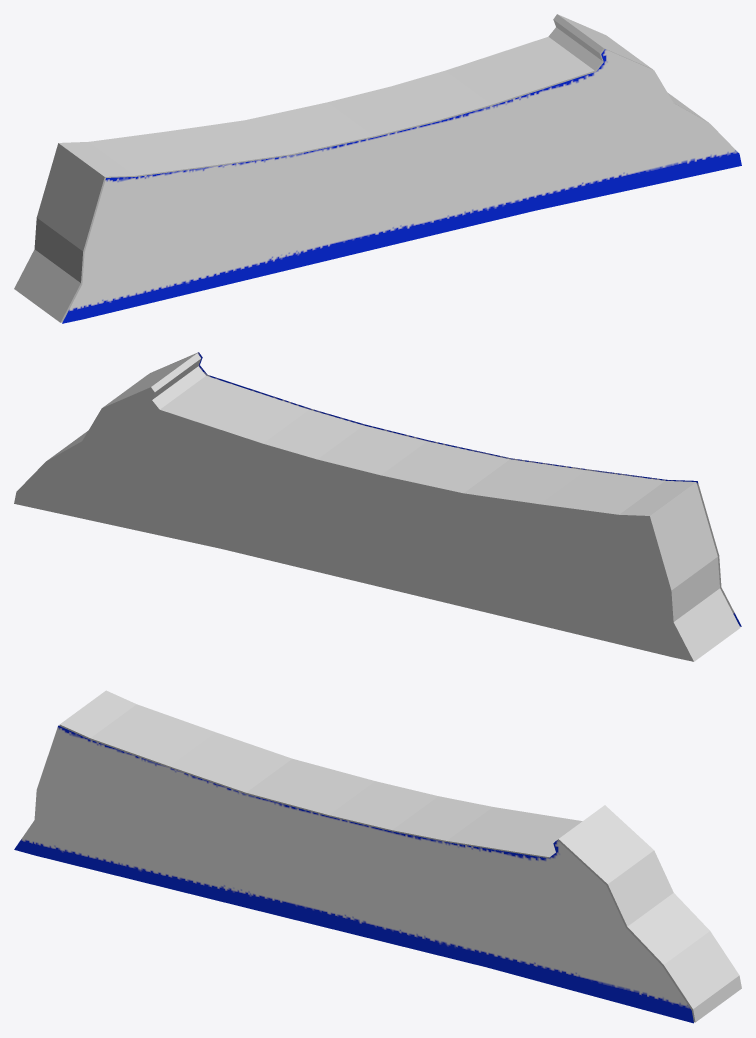
The picture shows the model from 3 angles, top to bottom: view 1: azimuth 30°, elevation 25°; view 2: azimuth 150°, elevation 25°; view 3: azimuth 330°, elevation 25°; orthographic projection.
Parts seen in each view (by area): view 1: Out_2_1, Out_2_0; view 2: Out_2_0, Out_2_1; view 3: Out_2_1, Out_2_0.
Part boxes in pixels (left/top/right/bottom): Out_2_1: left=62, top=49, right=741, bottom=323; Out_2_0: left=14, top=14, right=708, bottom=322; Out_2_0: left=14, top=353, right=740, bottom=661; Out_2_1: left=149, top=352, right=741, bottom=626; Out_2_1: left=14, top=725, right=693, bottom=1023; Out_2_0: left=59, top=690, right=741, bottom=1022.
Size of the model in its own units: 4.23 by 0.8915 by 0.515.
2 materials, 1 textured.
